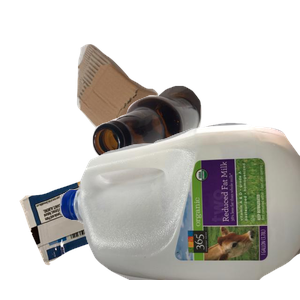cardboard: (74, 42, 225, 170)
glass: (90, 83, 300, 235)
plastic: (60, 120, 300, 300)
trash: (17, 123, 257, 300)
